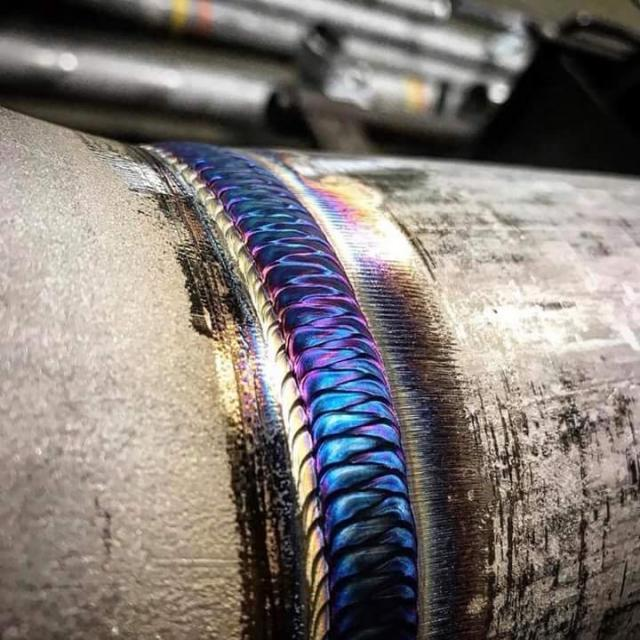Good Weld: (168, 133, 422, 640)
